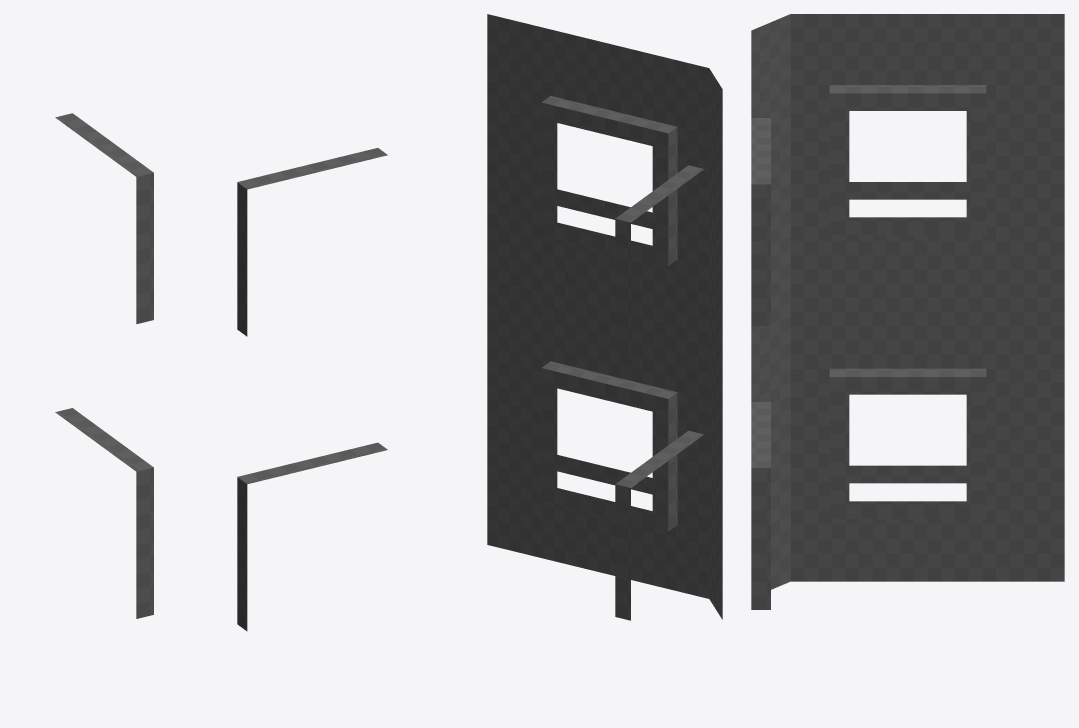
3 renders of one model, left to right at view 1: azimuth 30°, elevation 25°; view 2: azimuth 150°, elevation 25°; view 3: azimuth 270°, elevation 25°, orthographic. The views are drawn at different scales.
Parts seen in each view (by area): view 1: CubeInBackRightV4; view 2: CubeInBackRightV4; view 3: CubeInBackRightV4.
Boxes of the visible parts, x1,y1,x2,y2 form: CubeInBackRightV4: (55, 113, 387, 631); CubeInBackRightV4: (487, 14, 722, 620); CubeInBackRightV4: (751, 14, 1064, 609).
Bounding box in the file's own units: 2 × 4 × 2.
1 material, 1 textured.
